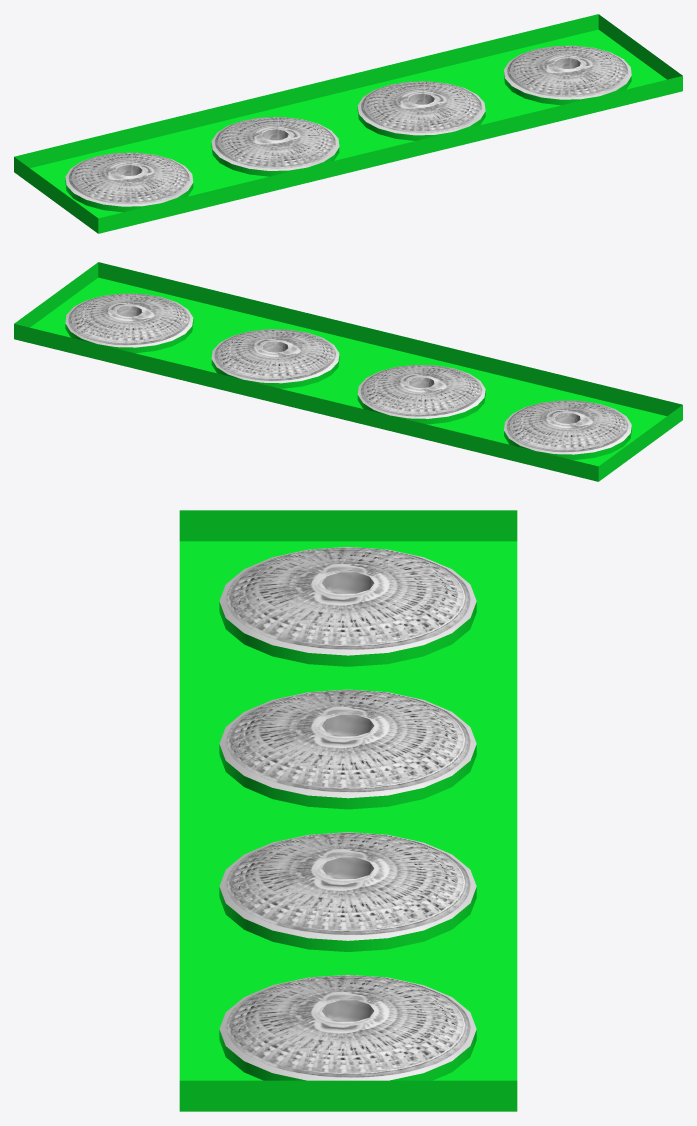
Rendered from LightCeiling01_10.FBX.
The picture shows the model from 3 angles, top to bottom: view 1: azimuth 30°, elevation 25°; view 2: azimuth 150°, elevation 25°; view 3: azimuth 270°, elevation 25°; orthographic projection. The views are drawn at different scales.
Parts seen in each view (by area): view 1: LightCeiling01_10; view 2: LightCeiling01_10; view 3: LightCeiling01_10.
Part boxes in pixels (bbox=[...]): LightCeiling01_10: bbox=[14, 14, 682, 233]; LightCeiling01_10: bbox=[14, 262, 682, 481]; LightCeiling01_10: bbox=[179, 510, 517, 1111].
Size of the model in its own units: 60 by 1.52 by 15.
